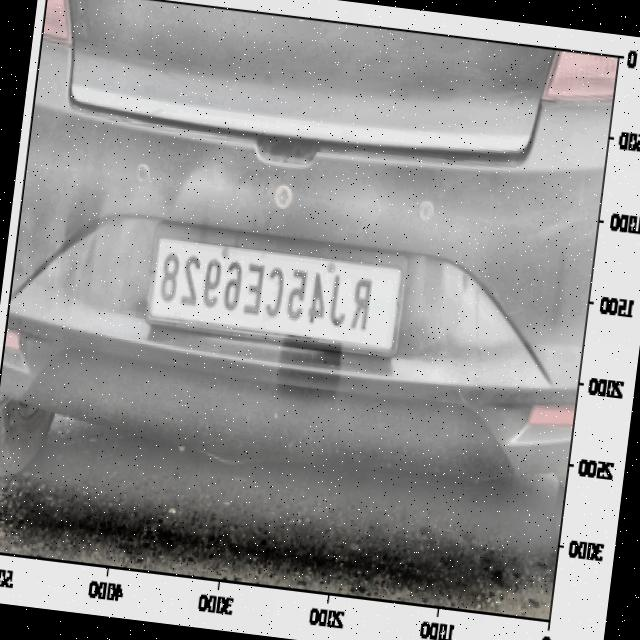license_plate: (147, 242, 386, 347)
